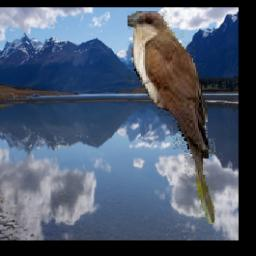Cuckoo: (127, 12, 216, 226)
